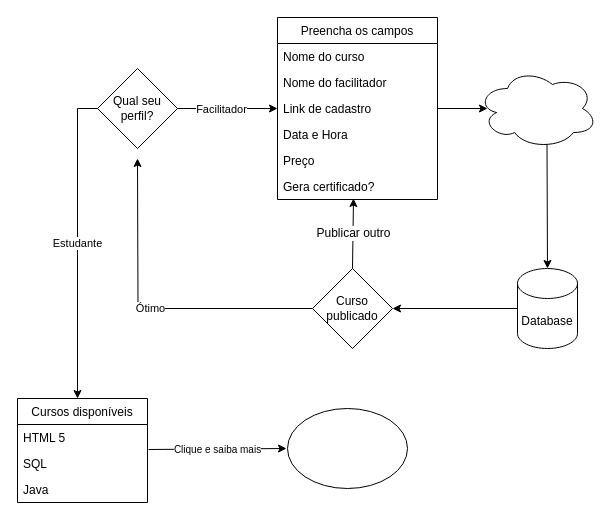
This 615x523 diagram has some shape labels left out. Here are the shapes that lost their labels. From the top down, the centre of each, then its label:
At [537,108]: "API recebe os dados".
At [347,448]: "Direciona para o link do facilitador".
